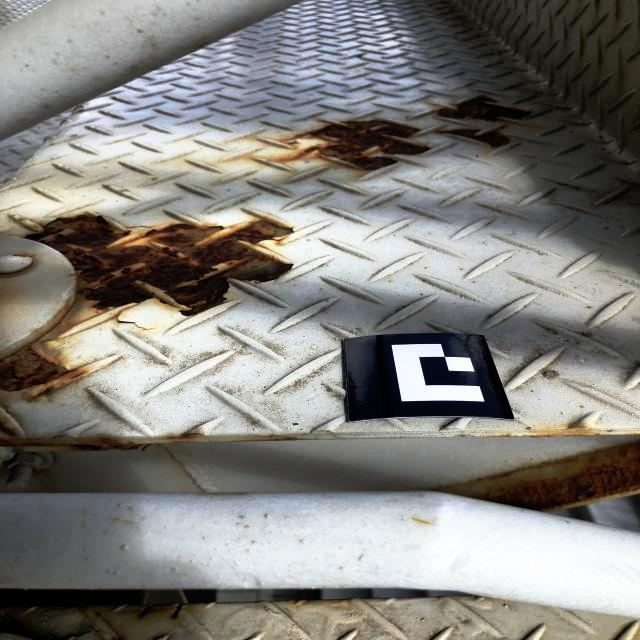Corrosion: (21, 213, 296, 317), (423, 440, 640, 513), (279, 118, 432, 171), (0, 342, 88, 399), (432, 96, 534, 124), (35, 294, 80, 343), (0, 418, 66, 447), (436, 129, 508, 148), (66, 435, 144, 452), (108, 304, 153, 331), (33, 625, 101, 640), (527, 425, 599, 438), (138, 603, 175, 618), (226, 435, 303, 442), (162, 430, 203, 443), (170, 604, 191, 620), (111, 630, 125, 640), (40, 339, 60, 344), (71, 606, 89, 611), (289, 600, 311, 604), (493, 433, 514, 437), (93, 611, 103, 619)
